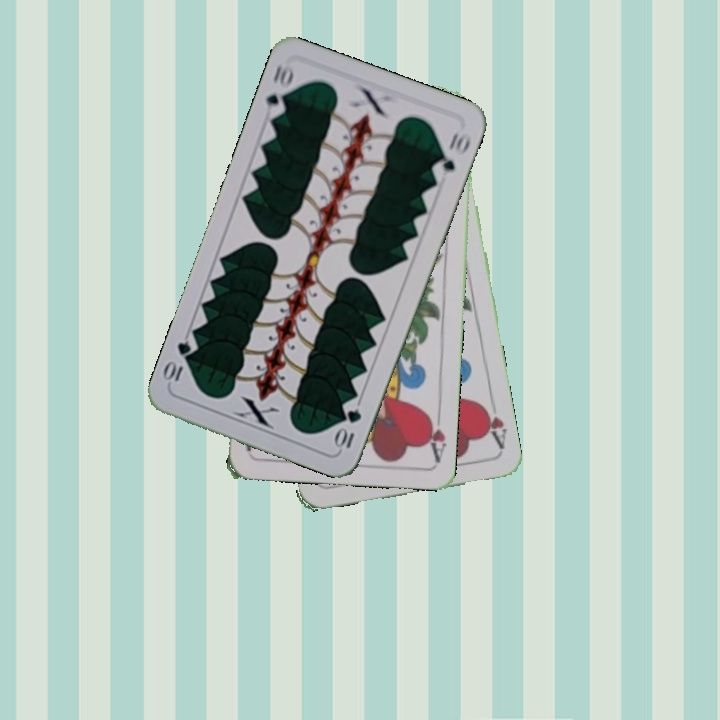G10: (261, 60, 297, 120), (332, 405, 364, 452)
HA: (477, 400, 509, 452), (421, 405, 448, 464)
